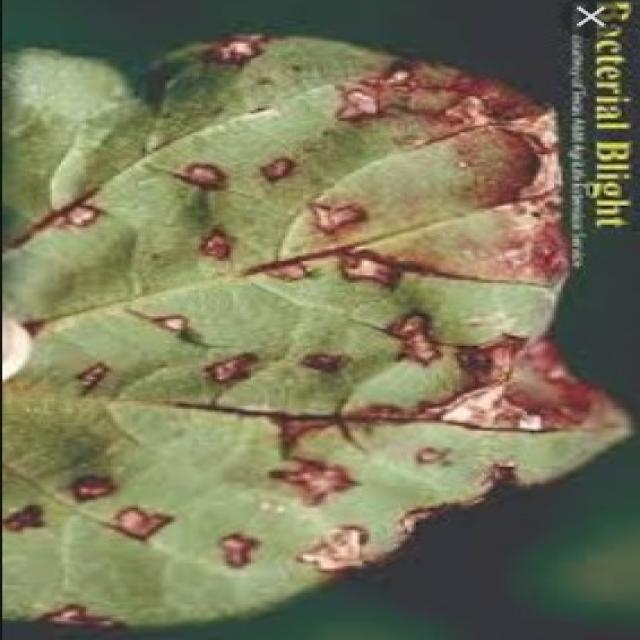Bacterial Blight: (21, 71, 560, 591)
